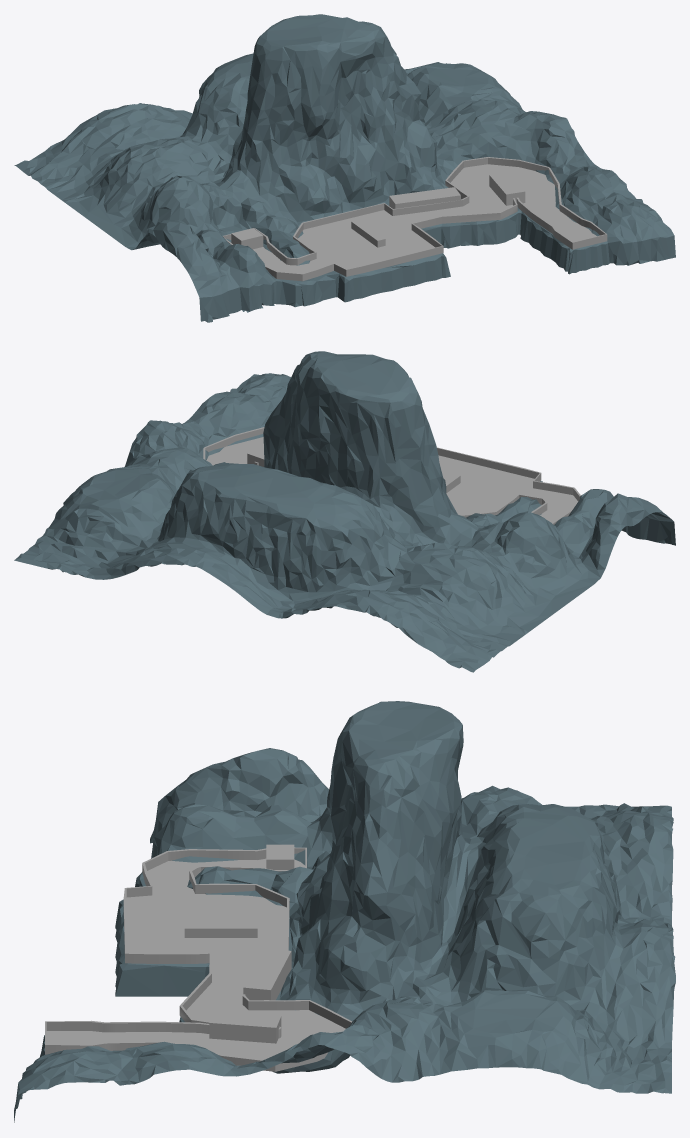
Rendered from Turorial export 1.fbx.
3 renders of one model, top to bottom at view 1: azimuth 30°, elevation 25°; view 2: azimuth 150°, elevation 25°; view 3: azimuth 270°, elevation 25°, orthographic. The views are drawn at different scales.
Parts seen in each view (by area): view 1: pPlane1, Map_With_Walls, Robot_Station, Truck, Robot_Station1, Barrier; view 2: pPlane1, Map_With_Walls; view 3: pPlane1, Map_With_Walls, Truck, Robot_Station, Barrier, Robot_Station1.
Boxes of the visible parts, <box> form: pPlane1: <box>14,14,675,322</box>; Map_With_Walls: <box>223,157,607,281</box>; Robot_Station: <box>389,187,460,208</box>; Truck: <box>489,172,525,205</box>; Robot_Station1: <box>231,228,263,249</box>; Barrier: <box>351,219,385,247</box>; pPlane1: <box>14,351,675,672</box>; Map_With_Walls: <box>203,427,580,524</box>; pPlane1: <box>14,701,675,1122</box>; Map_With_Walls: <box>45,847,352,1071</box>; Truck: <box>209,1011,281,1043</box>; Robot_Station: <box>243,948,291,1000</box>; Barrier: <box>184,923,257,937</box>; Robot_Station1: <box>266,844,294,869</box>.
Bounding box in the file's own units: 970 × 391 × 936.
